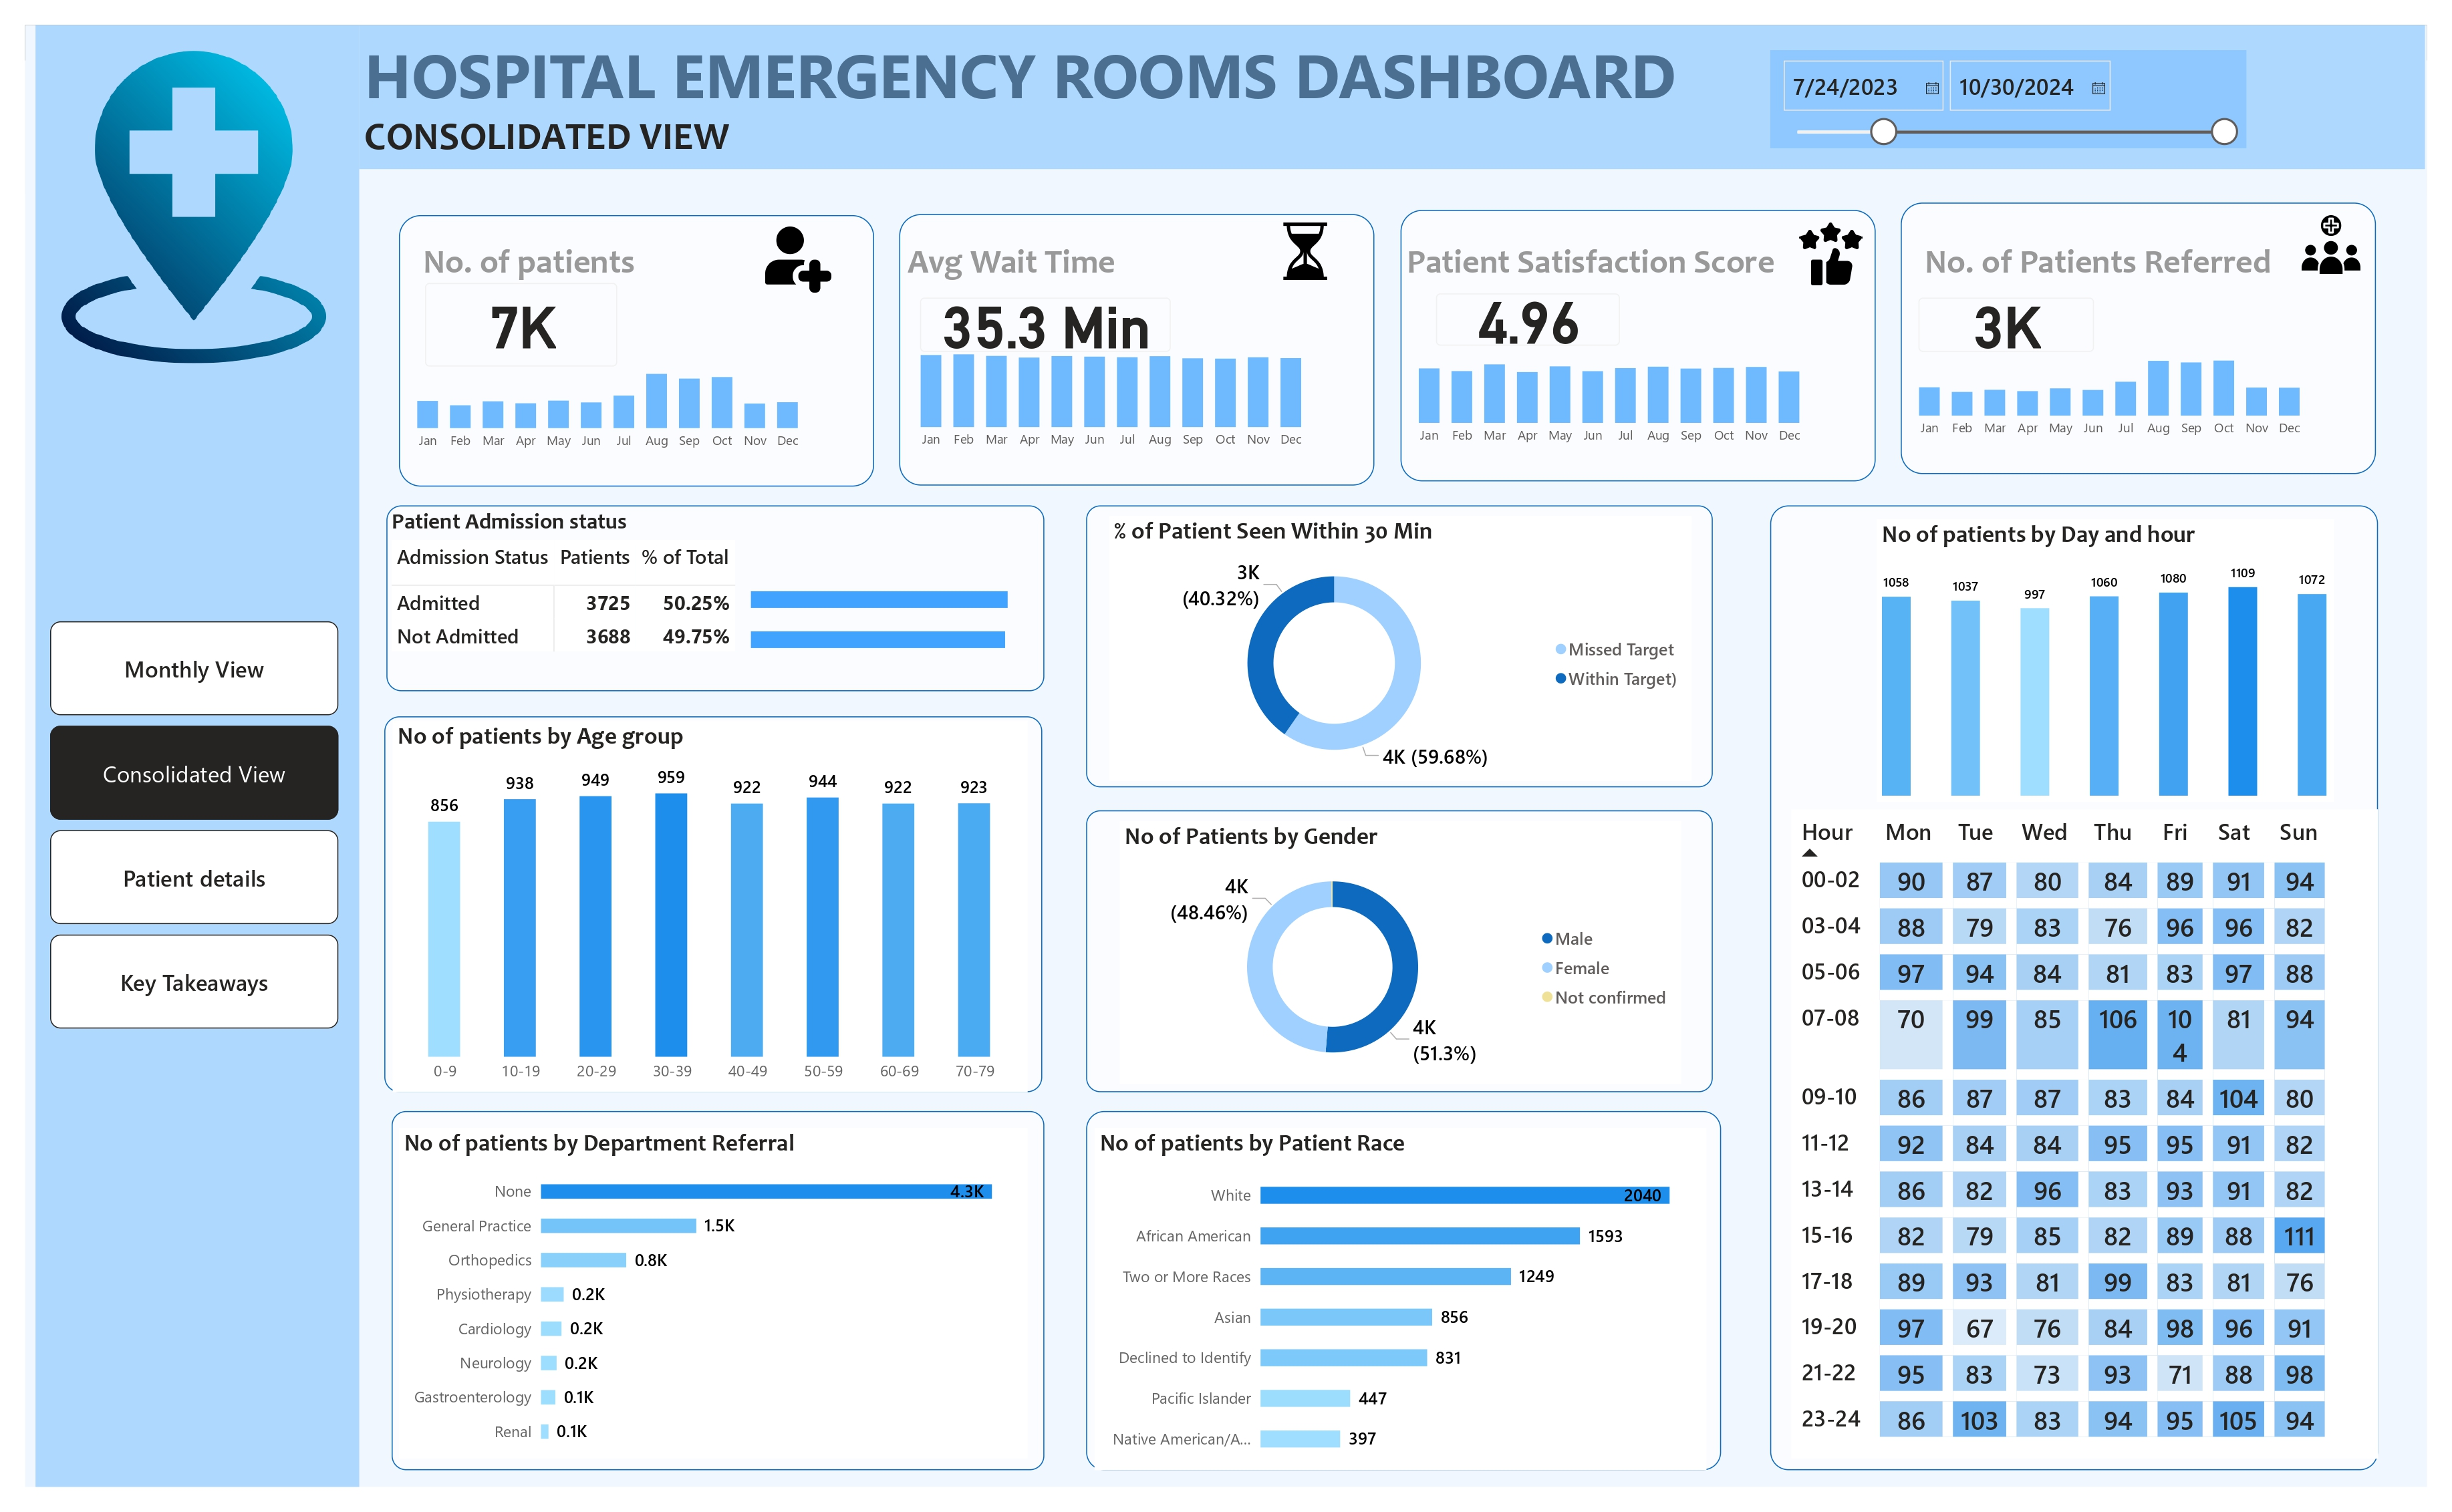

The dashboard page shown, as its layout file describes it:
{"tool":"powerbi","page":{"name":"Consolidated View","canvas":[2300,1400],"ordinal":1},"visuals":[{"type":"shape","box":[1671.1,460,582.2,924.4],"z":0},{"type":"shape","box":[10.4,0,310,1399.9],"z":1000},{"type":"textbox","box":[319.7,2.1,1289.2,137.9],"z":2000},{"type":"shape","box":[320,0,1977.8,137.8],"z":3000},{"type":"textbox","box":[320,77.8,397.8,62.2],"z":4000},{"type":"slicer","fields":{"Values":["Data Table.Date"]},"box":[1671.1,24.4,455.6,93.3],"z":5000},{"type":"shape","box":[358,182,455,260],"z":6000},{"type":"cardVisual","fields":{"Data":["Hospital ER_Data.No of patients"]},"box":[366,230,218,114],"z":7000},{"type":"textbox","box":[376,202,234,54],"z":8000},{"type":"columnChart","fields":{"Category":["Data Table.Month Name"],"Y":["Hospital ER_Data.No of patients"]},"box":[358,296,400,120],"z":9000},{"type":"shape","box":[837.3,181.3,455,260],"z":10000},{"type":"columnChart","fields":{"Category":["Data Table.Month Name"],"Y":["Avg(Hospital ER_Data.Patient Waittime)"]},"box":[840,295.3,400,120],"z":11000},{"type":"shape","box":[1316.7,177.3,455,260],"z":12000},{"type":"columnChart","fields":{"Category":["Data Table.Month Name"],"Y":["Hospital ER_Data.Satisfaction Score"]},"box":[1317.3,291.3,400,120],"z":13000},{"type":"shape","box":[1796,170,455,260],"z":14000},{"type":"columnChart","fields":{"Category":["Data Table.Month Name"],"Y":["Hospital ER_Data.No. of Patients Referred"]},"box":[1796,284,400,120],"z":15000},{"type":"textbox","box":[840,202,250,54],"z":16000},{"type":"cardVisual","fields":{"Data":["Hospital ER_Data.Avg Wait Time"]},"box":[840,244,274,86],"z":17000},{"type":"textbox","box":[1318,202,392,54],"z":18000},{"type":"textbox","box":[1814,202,366,54],"z":19000},{"type":"cardVisual","fields":{"Data":["Hospital ER_Data.Satisfaction Score"]},"box":[1334,240,210,84],"z":20000},{"type":"shape","box":[346,460,630,178],"z":21000},{"type":"cardVisual","fields":{"Data":["Hospital ER_Data.No. of Patients Referred"]},"box":[1796,244,202,86],"z":22000},{"type":"pivotTable","title":"Patient Admission status","fields":{"Rows":["Hospital ER_Data.Admission Status"],"Values":["Hospital ER_Data.No of patients1","Hospital ER_Data.No of patients"]},"box":[346,462,632,178],"z":23000},{"type":"shape","box":[351.1,1040,624.4,344.4],"z":24000},{"type":"barChart","fields":{"Category":["Hospital ER_Data.Admission Status"],"Y":["Hospital ER_Data.No of patients"]},"box":[690,510,274,114],"z":25000},{"type":"shape","box":[344,662,630,360],"z":26000},{"type":"columnChart","fields":{"Category":["Hospital ER_Data.Age group"],"Y":["Hospital ER_Data.No of patients"]},"box":[352,666,608,356],"z":27000},{"type":"shape","box":[1016,752,600,270],"z":28000},{"type":"clusteredBarChart","fields":{"Category":["Hospital ER_Data.Department Referral"],"Y":["Hospital ER_Data.No of patients"]},"box":[357.8,1055.6,602.2,317.8],"z":29000},{"type":"pivotTable","fields":{"Rows":["Hospital ER_Data.Waittime Interval"],"Columns":["Data Table.Day Name"],"Values":["Hospital ER_Data.No of patients"]},"box":[1691.1,751.1,562.2,622.2],"z":30000},{"type":"shape","box":[1016,460,600,270],"z":31000},{"type":"donutChart","title":"% of Patient Seen Within 30 Min","fields":{"Category":["Hospital ER_Data.Waittime Status"],"Y":["Hospital ER_Data.No of patients"]},"box":[1038,470,558,254],"z":32000},{"type":"donutChart","title":"No of Patients by Gender","fields":{"Y":["Hospital ER_Data.No of patients"],"Category":["Hospital ER_Data.Patient Gender"]},"box":[1048,762,538,252],"z":33000},{"type":"shape","box":[1015.6,1040,608.9,344.4],"z":34000},{"type":"clusteredBarChart","fields":{"Y":["Hospital ER_Data.No of patients"],"Category":["Hospital ER_Data.Patient Race"]},"box":[1024,1056,586,328],"z":35000},{"type":"columnChart","title":"No of patients by Day and hour","fields":{"Category":["Data Table.Day Name"],"Y":["Hospital ER_Data.No of patients"]},"box":[1773.3,473.3,437.8,271.1],"z":36000},{"type":"image","box":[691.1,193.3,97.8,62.2],"z":37000},{"type":"image","box":[1171.1,188.9,108.9,55.6],"z":38000},{"type":"image","box":[1691.1,188.9,75.6,60],"z":39000},{"type":"image","box":[2180,171.1,55.6,77.8],"z":40000},{"type":"image","box":[11.1,24.4,300,300],"z":41000},{"type":"pageNavigator","box":[24.4,571.1,275.6,391.1],"z":42000}]}

Visuals, with their boxes on the page's 2300x1400 design canvas (x1, y1, x2, y2). These are canvas units, not pixel positions in the 2452x1512 screenshot, which may show the page scaled, cropped or inside an application window:
shape: (x1=1671, y1=460, x2=2253, y2=1384)
shape: (x1=10, y1=0, x2=320, y2=1400)
textbox: (x1=320, y1=2, x2=1609, y2=140)
shape: (x1=320, y1=0, x2=2298, y2=138)
textbox: (x1=320, y1=78, x2=718, y2=140)
slicer - Data Table.Date: (x1=1671, y1=24, x2=2127, y2=118)
shape: (x1=358, y1=182, x2=813, y2=442)
cardVisual - Hospital ER_Data.No of patients: (x1=366, y1=230, x2=584, y2=344)
textbox: (x1=376, y1=202, x2=610, y2=256)
columnChart - Data Table.Month Name x Hospital ER_Data.No of patients: (x1=358, y1=296, x2=758, y2=416)
shape: (x1=837, y1=181, x2=1292, y2=441)
columnChart - Data Table.Month Name x Avg(Hospital ER_Data.Patient Waittime): (x1=840, y1=295, x2=1240, y2=415)
shape: (x1=1317, y1=177, x2=1772, y2=437)
columnChart - Data Table.Month Name x Hospital ER_Data.Satisfaction Score: (x1=1317, y1=291, x2=1717, y2=411)
shape: (x1=1796, y1=170, x2=2251, y2=430)
columnChart - Data Table.Month Name x Hospital ER_Data.No. of Patients Referred: (x1=1796, y1=284, x2=2196, y2=404)
textbox: (x1=840, y1=202, x2=1090, y2=256)
cardVisual - Hospital ER_Data.Avg Wait Time: (x1=840, y1=244, x2=1114, y2=330)
textbox: (x1=1318, y1=202, x2=1710, y2=256)
textbox: (x1=1814, y1=202, x2=2180, y2=256)
cardVisual - Hospital ER_Data.Satisfaction Score: (x1=1334, y1=240, x2=1544, y2=324)
shape: (x1=346, y1=460, x2=976, y2=638)
cardVisual - Hospital ER_Data.No. of Patients Referred: (x1=1796, y1=244, x2=1998, y2=330)
"Patient Admission status" pivotTable: (x1=346, y1=462, x2=978, y2=640)
shape: (x1=351, y1=1040, x2=976, y2=1384)
barChart - Hospital ER_Data.Admission Status x Hospital ER_Data.No of patients: (x1=690, y1=510, x2=964, y2=624)
shape: (x1=344, y1=662, x2=974, y2=1022)
columnChart - Hospital ER_Data.Age group x Hospital ER_Data.No of patients: (x1=352, y1=666, x2=960, y2=1022)
shape: (x1=1016, y1=752, x2=1616, y2=1022)
clusteredBarChart - Hospital ER_Data.Department Referral x Hospital ER_Data.No of patients: (x1=358, y1=1056, x2=960, y2=1373)
pivotTable - Hospital ER_Data.Waittime Interval x Data Table.Day Name: (x1=1691, y1=751, x2=2253, y2=1373)
shape: (x1=1016, y1=460, x2=1616, y2=730)
"% of Patient Seen Within 30 Min" donutChart: (x1=1038, y1=470, x2=1596, y2=724)
"No of Patients by Gender" donutChart: (x1=1048, y1=762, x2=1586, y2=1014)
shape: (x1=1016, y1=1040, x2=1624, y2=1384)
clusteredBarChart - Hospital ER_Data.No of patients x Hospital ER_Data.Patient Race: (x1=1024, y1=1056, x2=1610, y2=1384)
"No of patients by Day and hour" columnChart: (x1=1773, y1=473, x2=2211, y2=744)
image: (x1=691, y1=193, x2=789, y2=256)
image: (x1=1171, y1=189, x2=1280, y2=244)
image: (x1=1691, y1=189, x2=1767, y2=249)
image: (x1=2180, y1=171, x2=2236, y2=249)
image: (x1=11, y1=24, x2=311, y2=324)
pageNavigator: (x1=24, y1=571, x2=300, y2=962)
